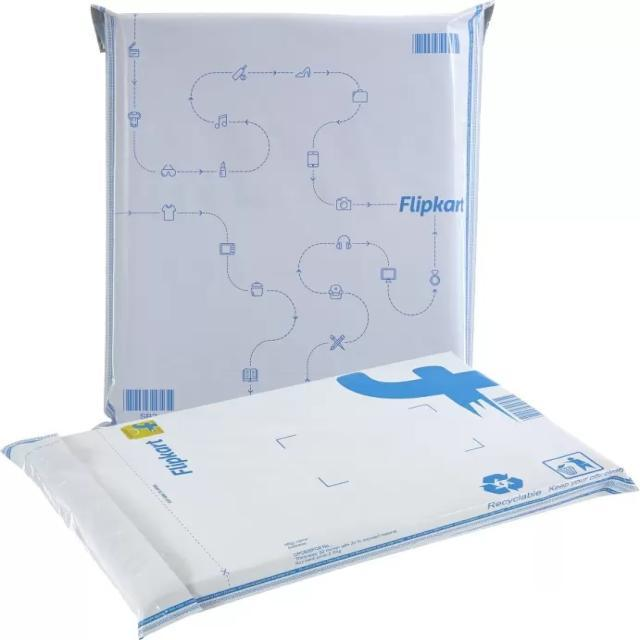cardboxes: (14, 0, 585, 404), (3, 368, 640, 640)
